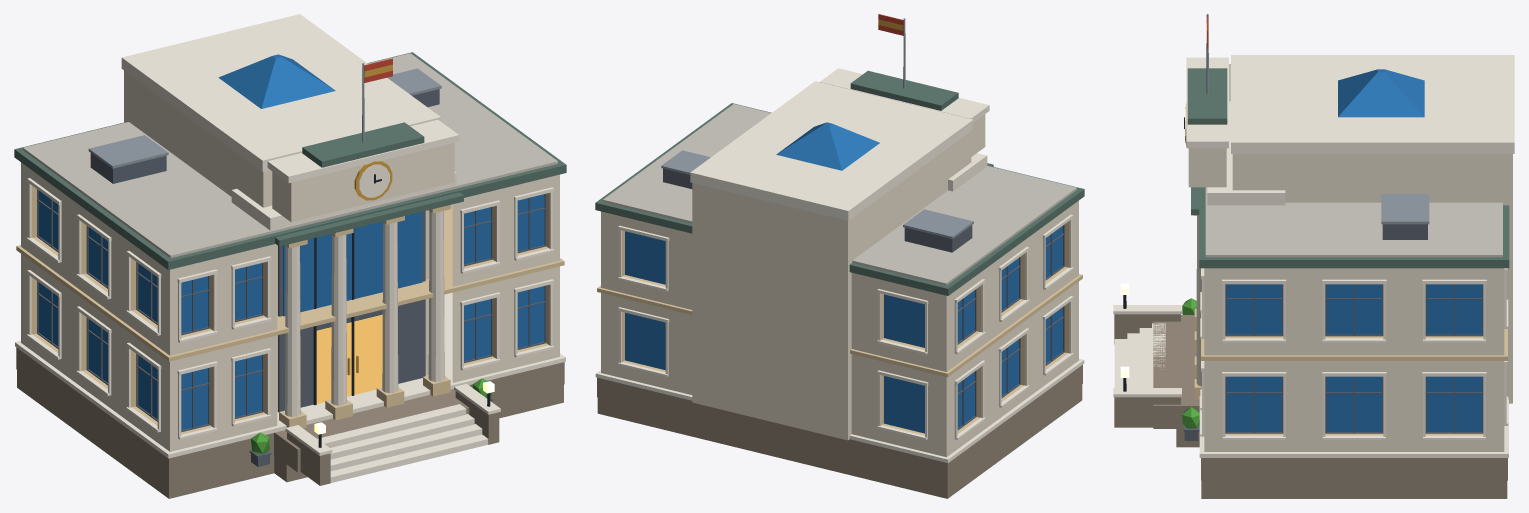
Rendered from 08_civic_equipment-lod0.glb.
3 views of the same model, side by side, from view 1: azimuth 30°, elevation 25°; view 2: azimuth 150°, elevation 25°; view 3: azimuth 270°, elevation 25° (orthographic). The views are drawn at different scales.
Parts seen in each view (by area): view 1: EdificioCivico_LOD0; view 2: EdificioCivico_LOD0; view 3: EdificioCivico_LOD0.
Boxes of the visible parts, bbox=[...] form: EdificioCivico_LOD0: bbox=[14, 14, 566, 498]; EdificioCivico_LOD0: bbox=[595, 14, 1084, 498]; EdificioCivico_LOD0: bbox=[1113, 14, 1514, 498].
Size of the model in its own units: 16.34 by 15.1 by 14.17.
Materials: 2 (2 with a texture image).
